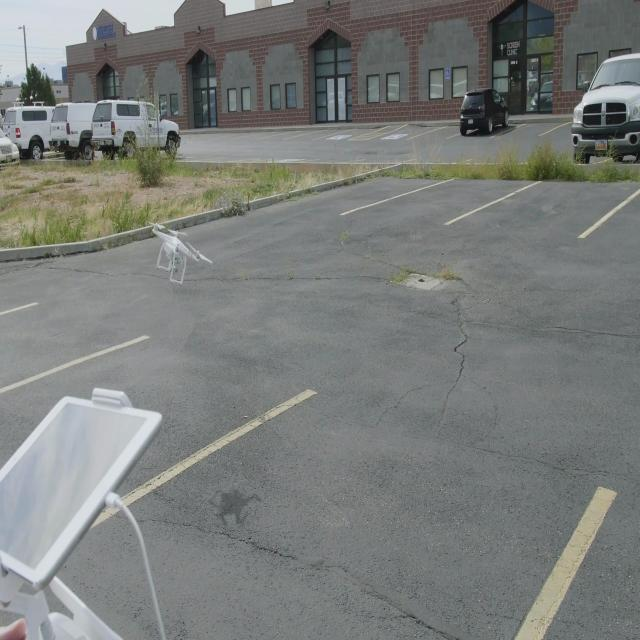drone: (146, 217, 211, 287)
